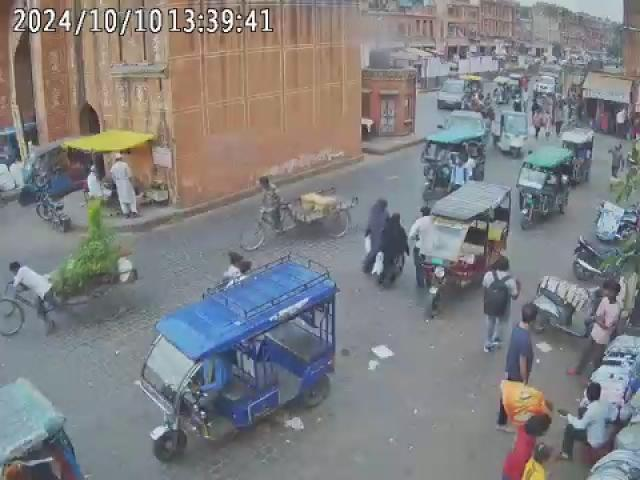auto: (133, 256, 340, 476), (407, 182, 512, 317), (421, 118, 488, 196), (518, 147, 578, 228), (561, 128, 596, 186), (496, 109, 533, 158)
person: (360, 198, 410, 287), (480, 255, 522, 355), (106, 153, 136, 216)
rickshow: (2, 244, 138, 338), (242, 176, 356, 249)
